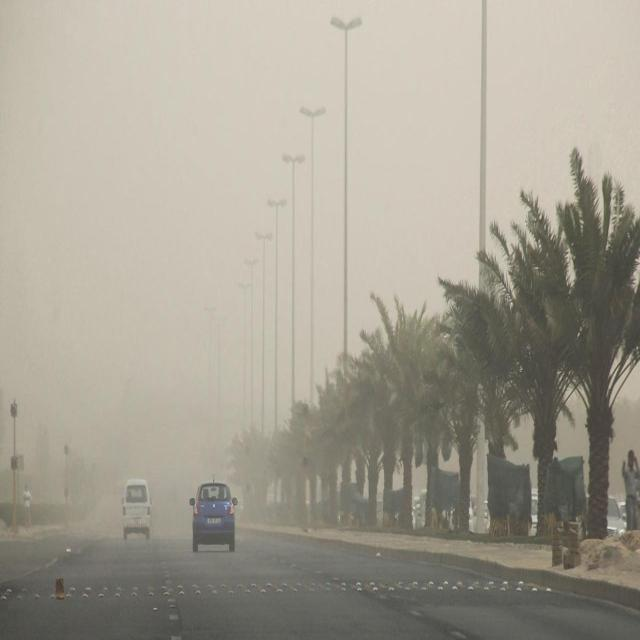Car: (188, 472, 238, 552)
Van: (121, 481, 152, 542)
